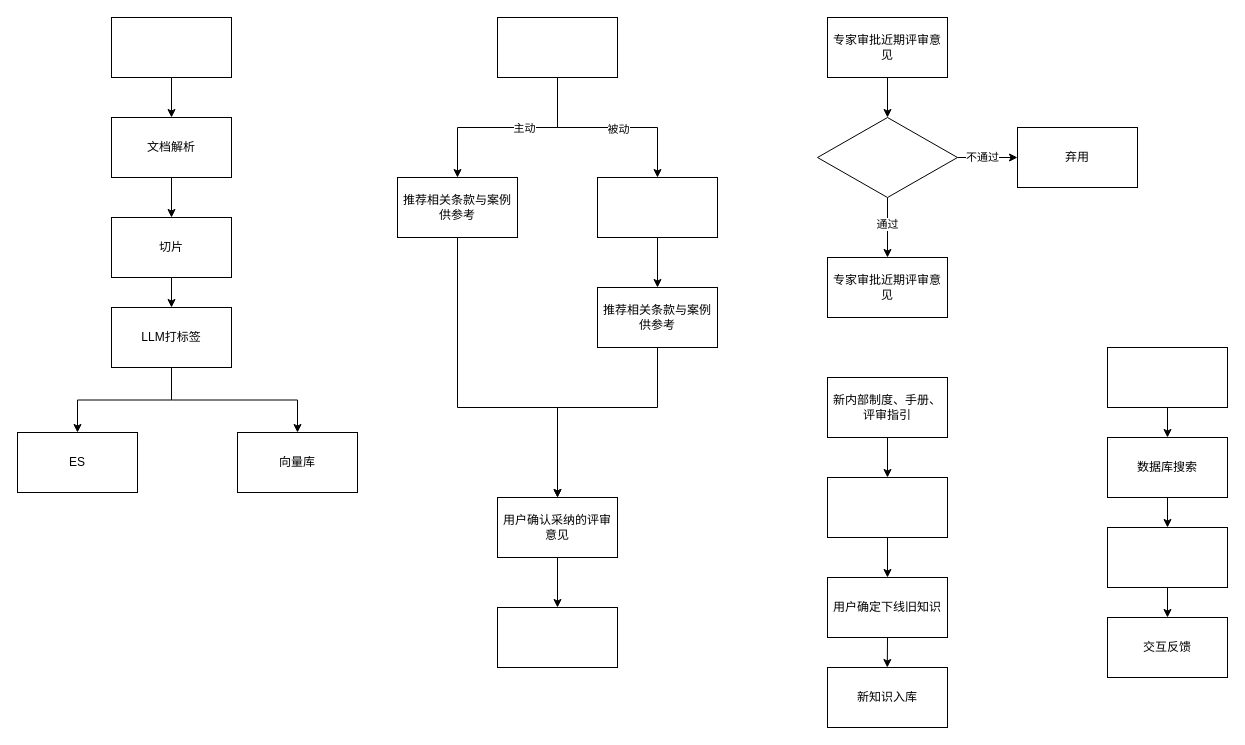
Some shapes in this 1245 by 745 pixel diagram are drawn without their labels. Each missing label, with the box of its shape:
LLM大模型摘要生成: (1106, 526, 1228, 588)
制度、指引、手册、投后评审意见: (110, 16, 232, 78)
是否通过: (816, 116, 958, 198)
查询知识库内是否有旧知识: (826, 476, 948, 538)
用户上传《投后管理方案》: (496, 16, 618, 78)
用户下载采纳的评审意见: (496, 606, 618, 668)
用户在交互界面提问: (1106, 346, 1228, 408)
用户提问: (596, 176, 718, 238)
